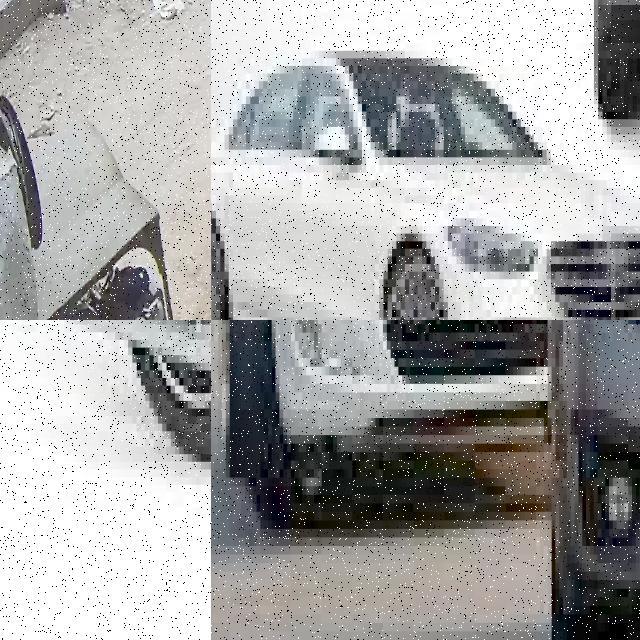bike: (0, 320, 211, 640)
car: (211, 0, 640, 320), (214, 320, 628, 563), (528, 320, 640, 640), (521, 0, 640, 134)
